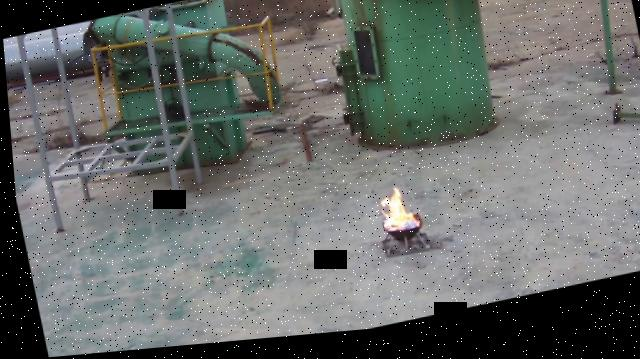fire: (374, 190, 413, 238)
